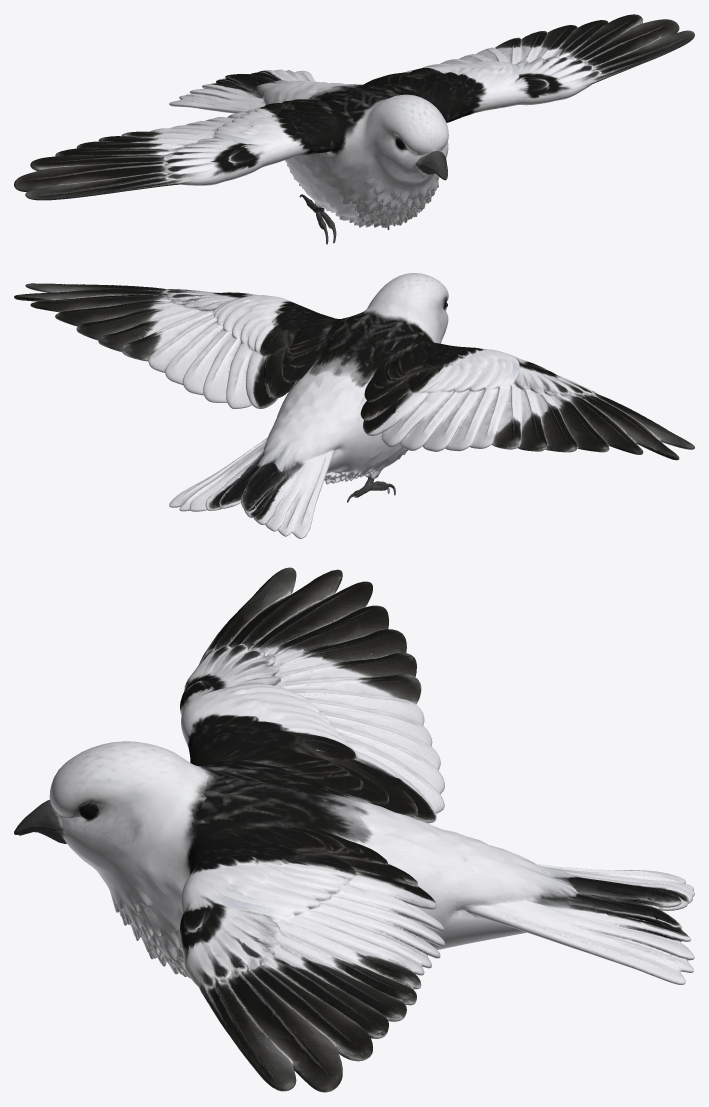
File: Plectrophenax_nivalis.glb
3 renders of one model, top to bottom at view 1: azimuth 30°, elevation 25°; view 2: azimuth 150°, elevation 25°; view 3: azimuth 270°, elevation 25°, orthographic. The views are drawn at different scales.
Parts seen in each view (by area): view 1: orient; view 2: orient; view 3: orient.
Boxes of the visible parts, x1=… form: orient: x1=14, y1=14, x2=694, y2=244; orient: x1=14, y1=273, x2=694, y2=538; orient: x1=14, y1=567, x2=694, y2=1092.
Size of the model in its own units: 0.5 by 0.1238 by 0.2766.
1 material, 1 textured.
